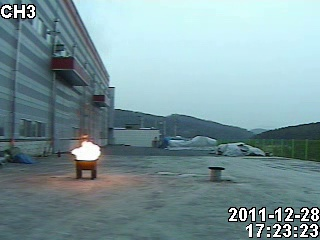fire: (69, 138, 103, 162)
